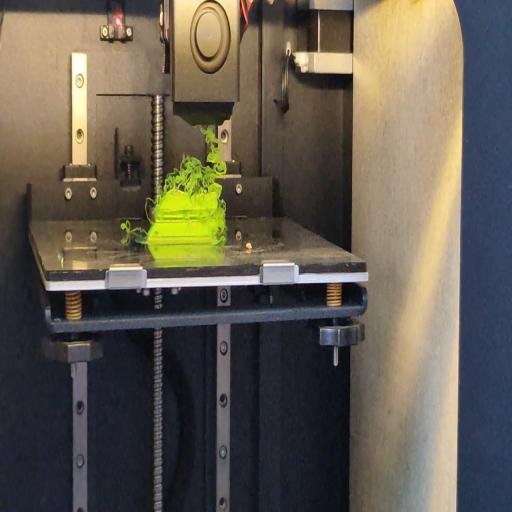spaghetti: (162, 127, 228, 194), (123, 221, 147, 238), (144, 194, 157, 221), (218, 233, 224, 243)
